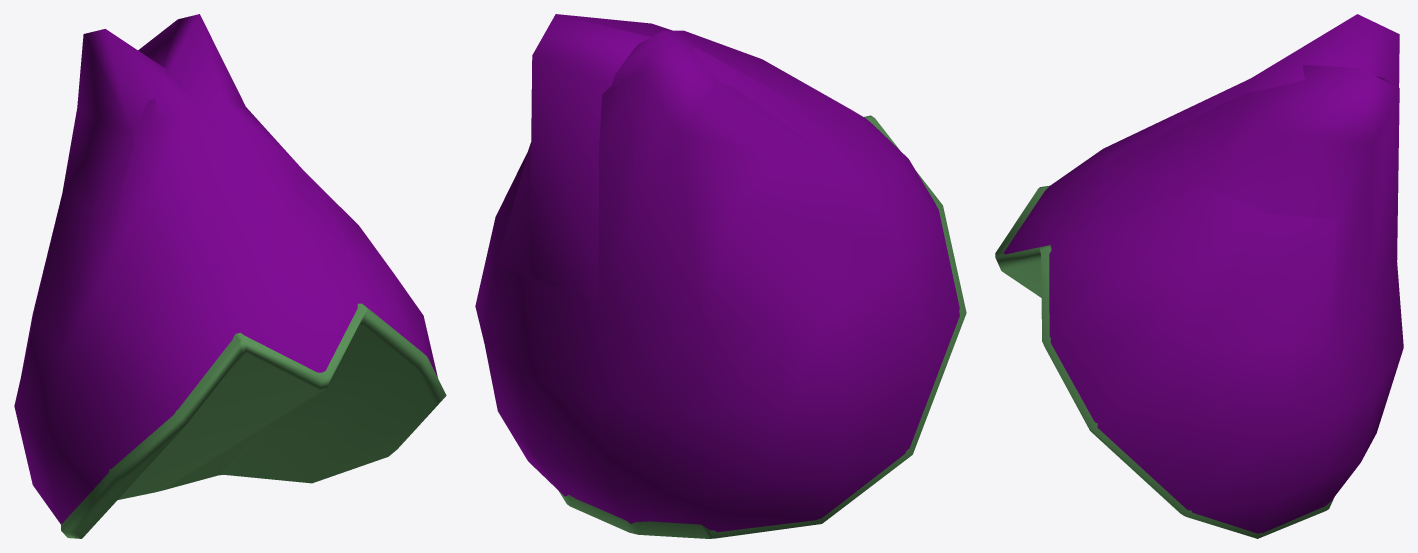
The model's file is hat_goblin (new).fbx.
3 views of the same model, side by side, from view 1: azimuth 30°, elevation 25°; view 2: azimuth 150°, elevation 25°; view 3: azimuth 270°, elevation 25° (orthographic). The views are drawn at different scales.
Visible parts, largest first — view 1: Hat_goblin2, Hat_goblin4; view 2: Hat_goblin2, Hat_goblin4; view 3: Hat_goblin2, Hat_goblin4.
Part boxes in pixels (x1,y1,x2,y2): Hat_goblin2: (14,29,446,538); Hat_goblin4: (98,14,346,315); Hat_goblin2: (475,30,966,538); Hat_goblin4: (496,14,865,300); Hat_goblin2: (995,14,1403,538); Hat_goblin4: (1039,65,1399,343).
Size of the model in its own units: 44.6 by 52.67 by 42.9.
